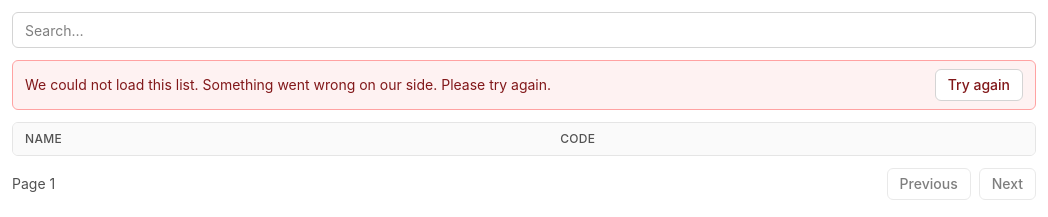
DataTable (Requirement 49.4) › shows an error state and retries on request
This screenshot has width=1048, height=217.
Expected: the text "We could not load this list" is shown, x1=25 y1=76 x2=199 y2=93
Click the button "Try again" at [979, 85], box x1=935 y1=69 x2=1023 y2=101
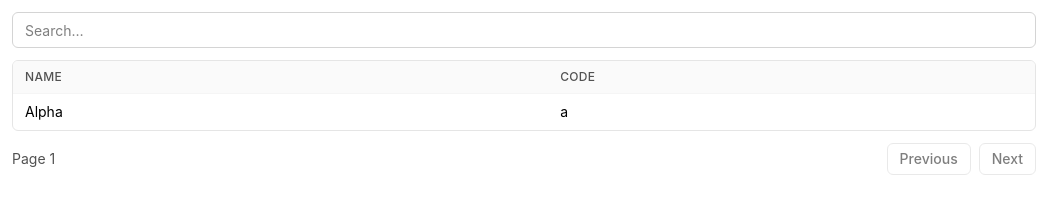
Expected: the text "Alpha" is shown, x1=13 y1=94 x2=548 y2=130
